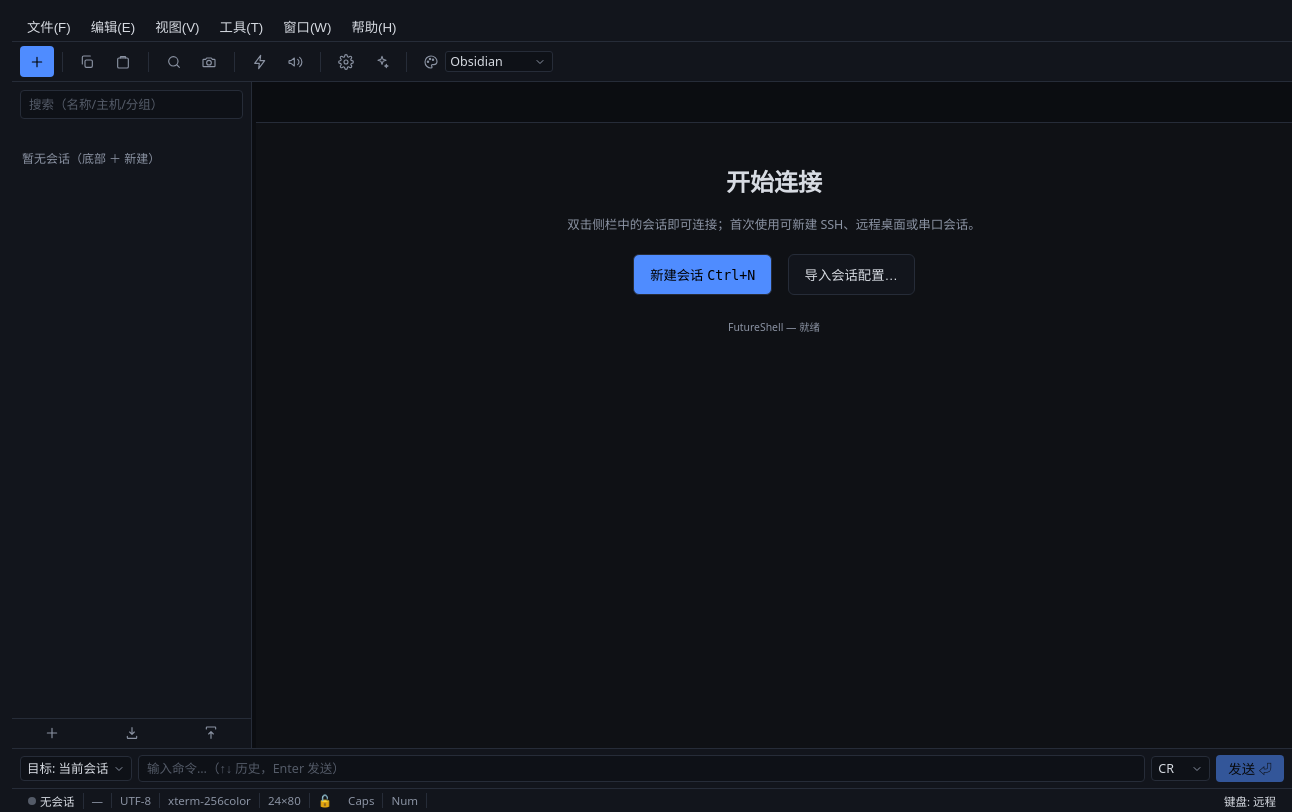
Scenario: App 骨架：五条 chrome 都在，且视图开关真的开关它们 › 视图菜单「工具栏」切换即隐藏该栏
Expected: the element with test id "toolbar" is shown, [12,42,1291,82]
Click the menu item "视图(V)".
click(177, 26)  # box [146,14,208,39]
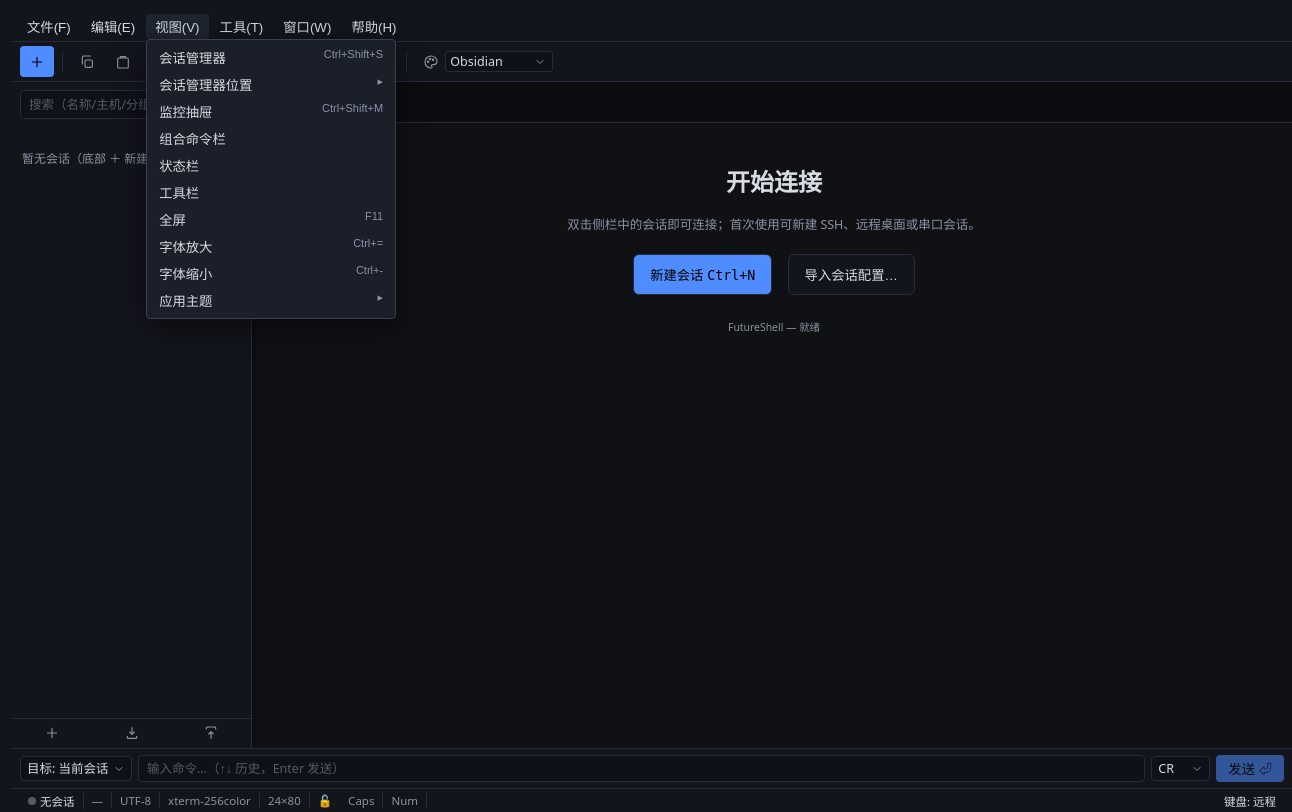
Expected: the menu item "工具栏" is shown
Click the menu item "工具栏".
click(271, 192)  # box [151,179,391,206]
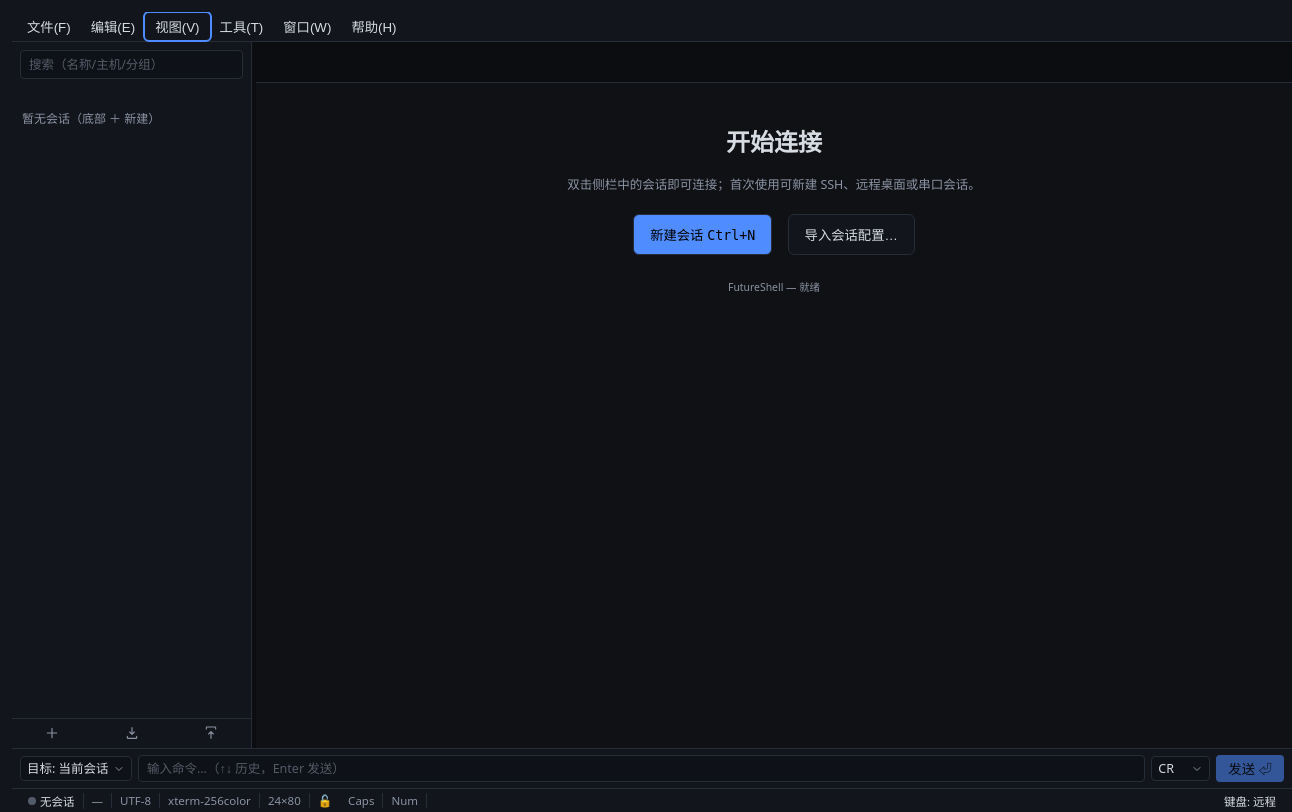
Expected: the element with test id "toolbar" is gone
